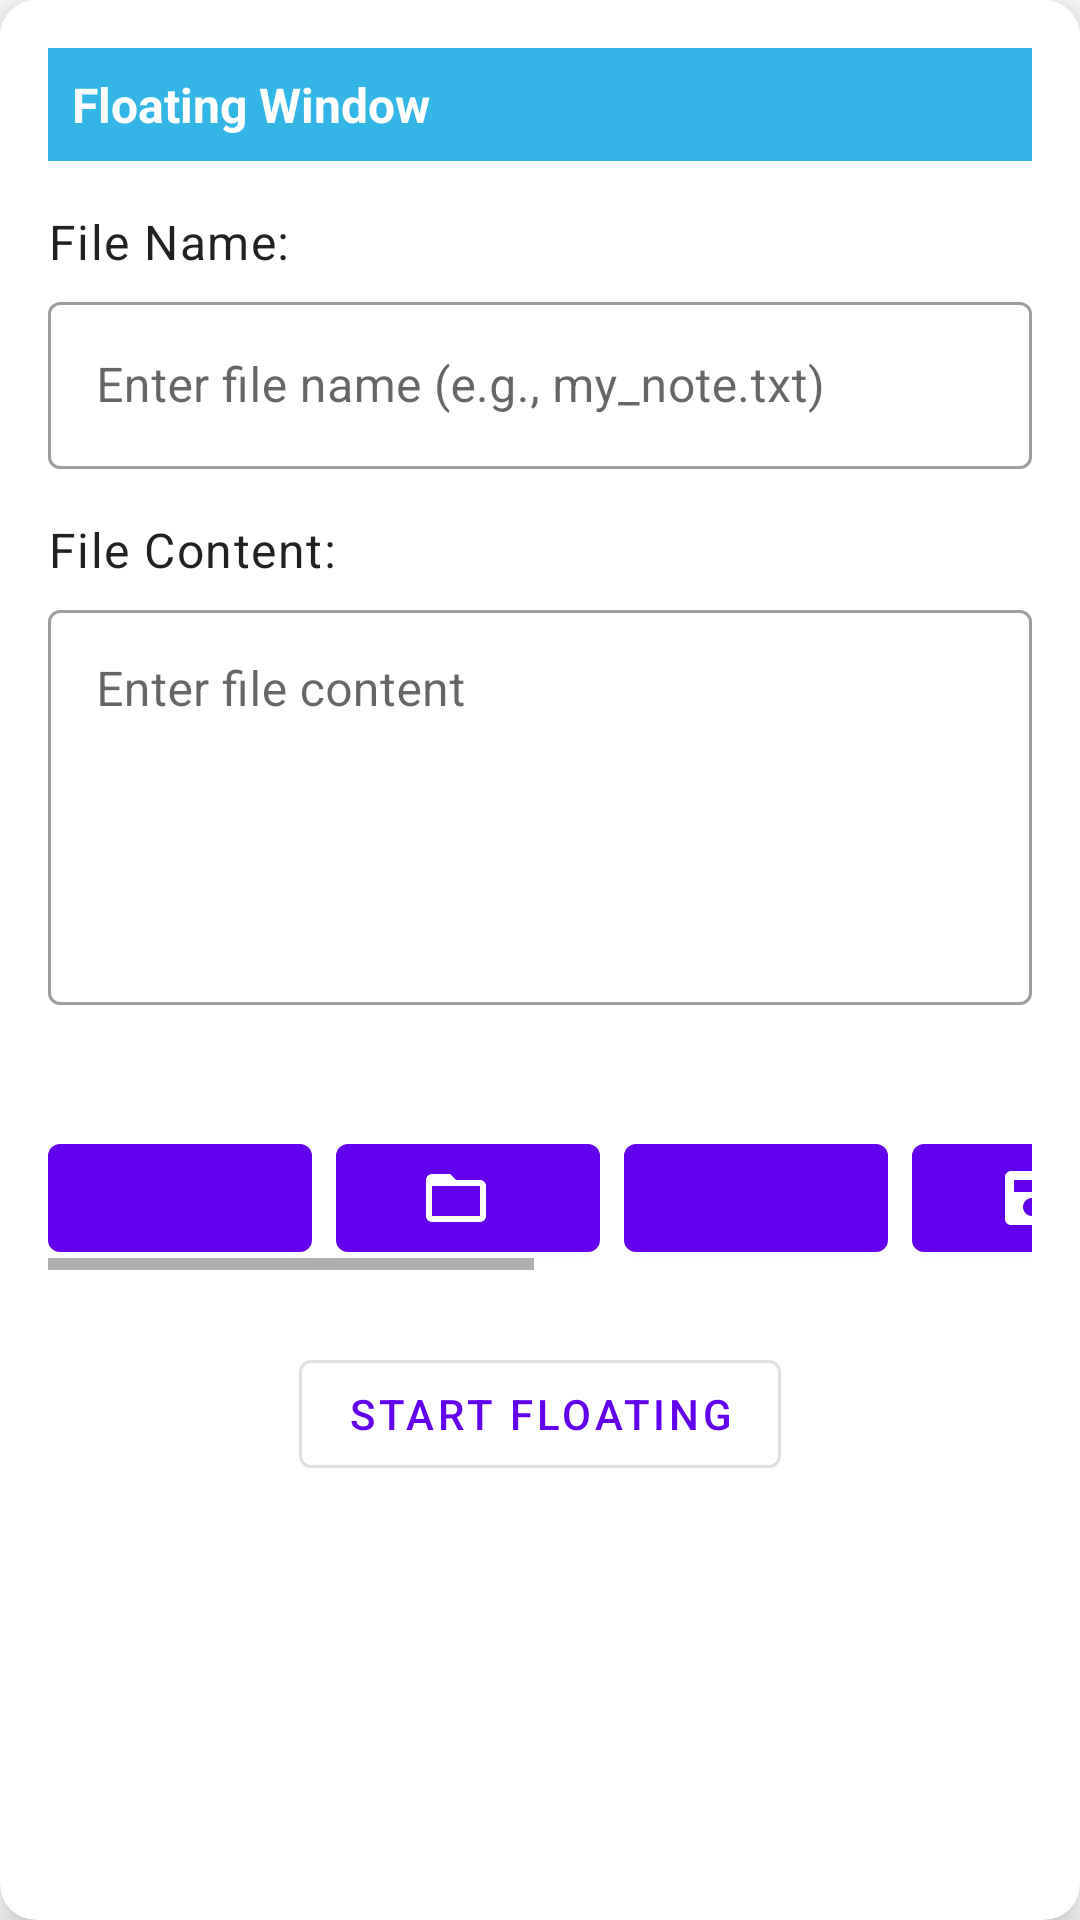

Named icons in this screenshot (1080x1920) and their centers, (x,y):
folder open: (468,1198)
